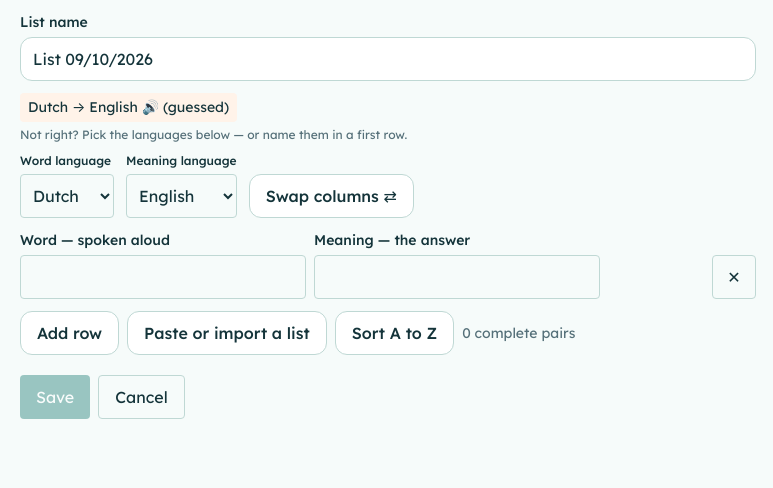
Test: guards › disables start until there is at least one complete pair
The width and height of the screenshot is (773, 488).
Expected: the button "Save" is disabled, top-left (20, 375), bottom-right (90, 419)
Type "daughter" into the field named "Row 1 meaning". click: (457, 277)
box: top-left (314, 255), bottom-right (600, 299)
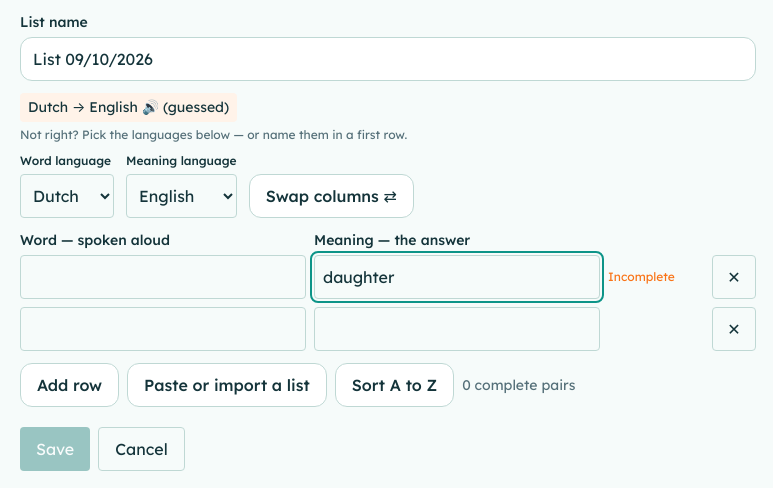
Type "dochter" into the field named "Row 1 word". click: (163, 277)
box: top-left (20, 255), bottom-right (306, 299)
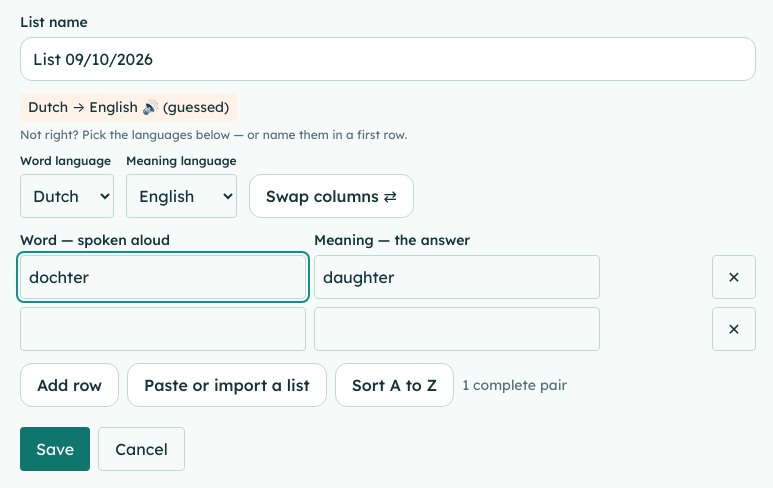
Result: the button "Save" is enabled at top-left (20, 427), bottom-right (90, 471)
